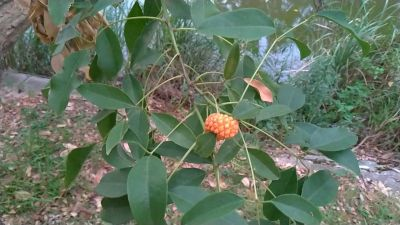eggs: (204, 110, 240, 139)
